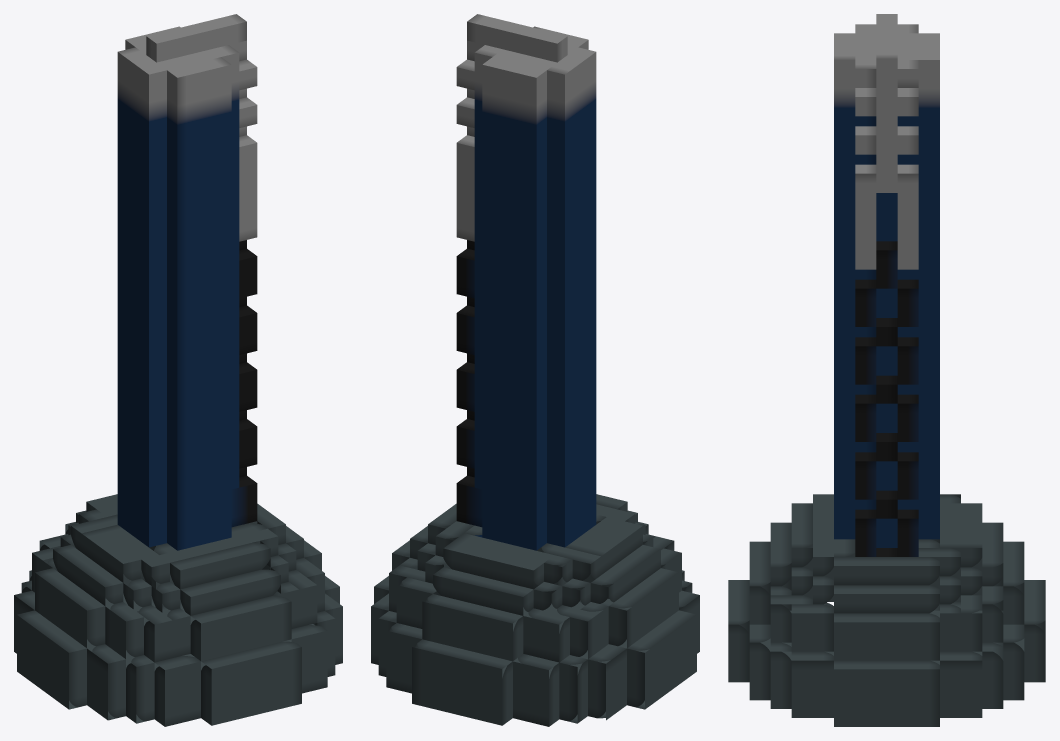
Rendered from Pen.dae.
The picture shows the model from 3 angles, left to right: view 1: azimuth 30°, elevation 25°; view 2: azimuth 150°, elevation 25°; view 3: azimuth 270°, elevation 25°; orthographic projection.
Visible parts, largest first — view 1: Content; view 2: Content; view 3: Content.
Boxes of the visible parts, x1=… form: Content: x1=14, y1=14, x2=342, y2=726; Content: x1=371, y1=14, x2=699, y2=726; Content: x1=728, y1=14, x2=1045, y2=726.
Bounding box in the file's own units: 15 × 33 × 15.
Materials: 1 (1 with a texture image).
